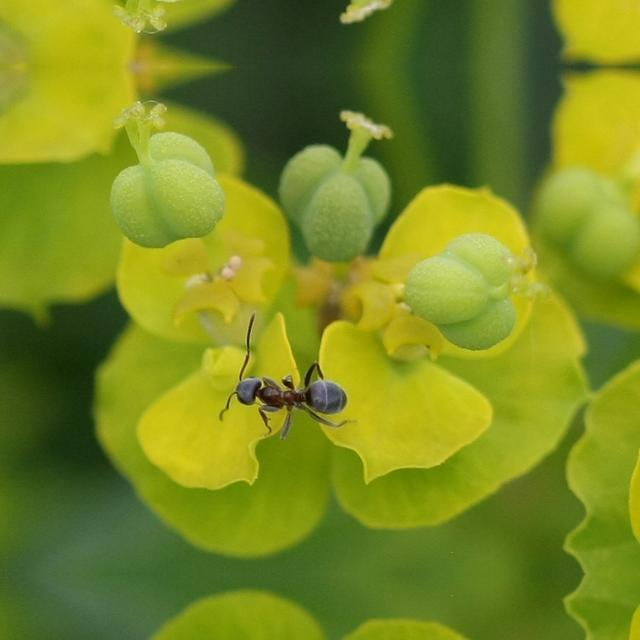Lasius: (228, 342, 360, 430)
